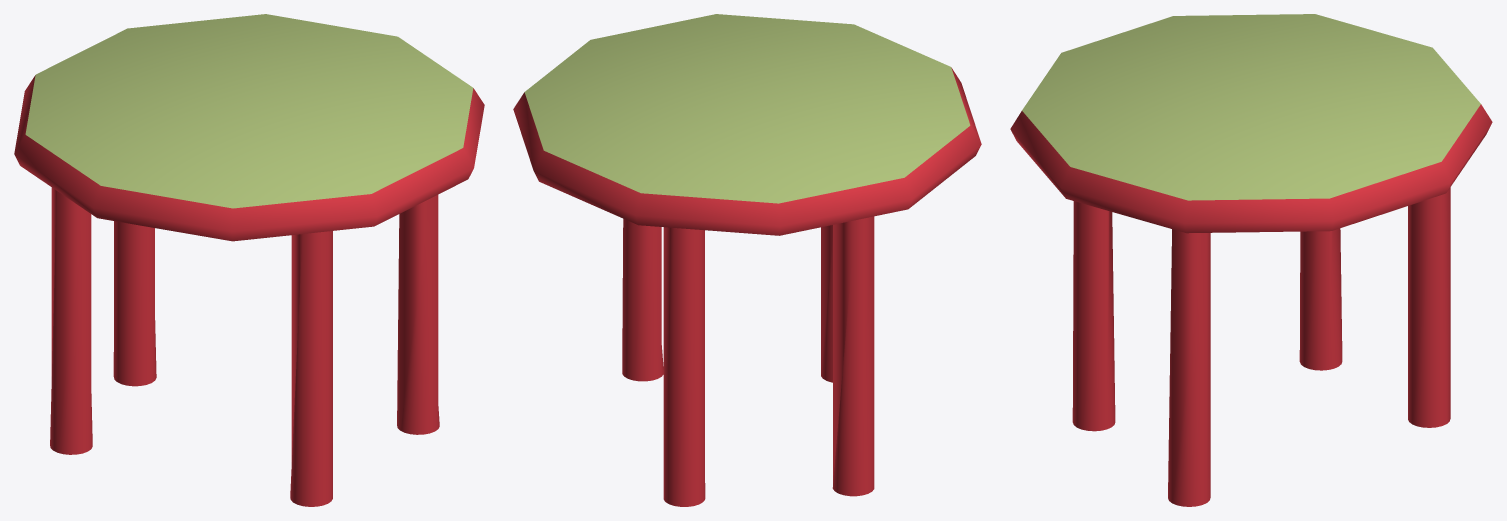
Rendered from SM_Table1.fbx.
3 views of the same model, side by side, from view 1: azimuth 30°, elevation 25°; view 2: azimuth 150°, elevation 25°; view 3: azimuth 270°, elevation 25° (orthographic).
Parts seen in each view (by area): view 1: SM_Table1; view 2: SM_Table1; view 3: SM_Table1.
Boxes of the visible parts, x1=… form: SM_Table1: x1=14, y1=14, x2=484, y2=506; SM_Table1: x1=513, y1=14, x2=981, y2=506; SM_Table1: x1=1010, y1=14, x2=1492, y2=506.
Size of the model in its own units: 94.71 by 72.98 by 98.51.
